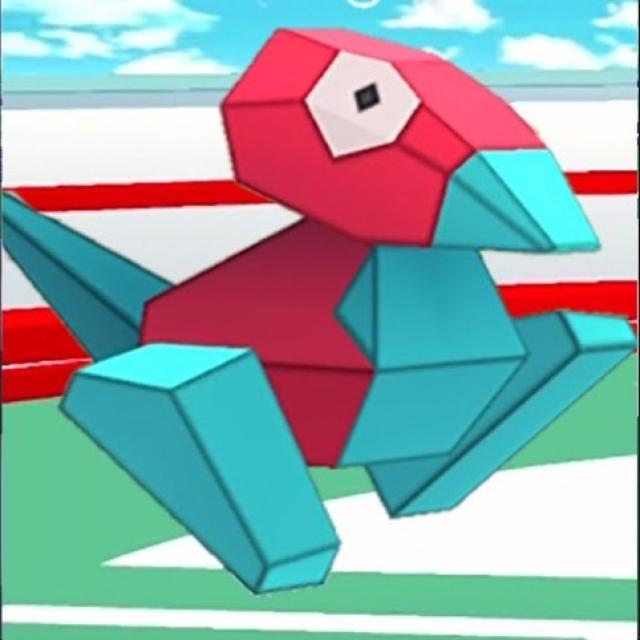Porygon: (127, 29, 585, 500)
